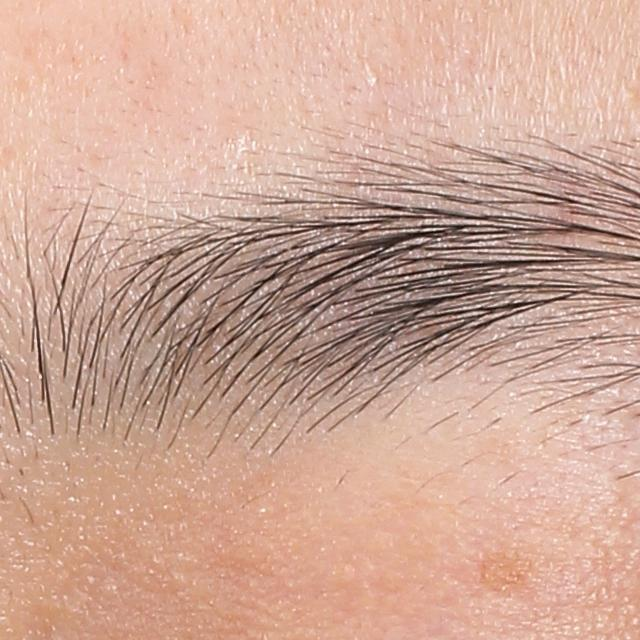comedo: (362, 70, 386, 90), (620, 86, 640, 105)
